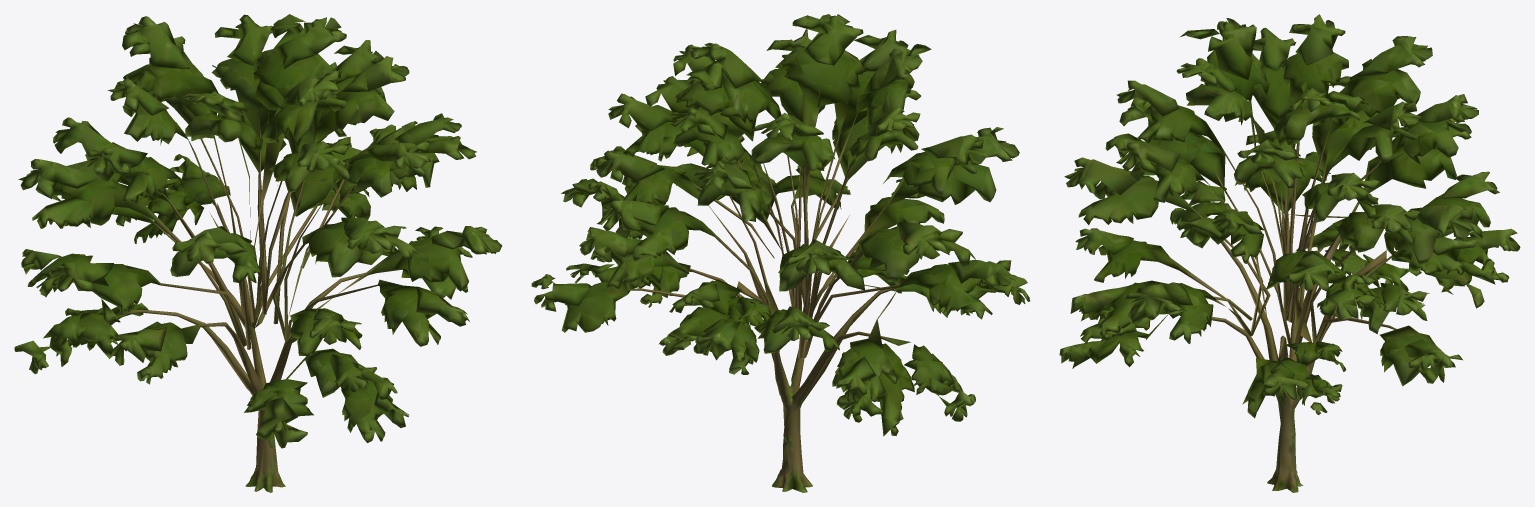
Rendered from YunQiShu.glb.
The picture shows the model from 3 angles, left to right: view 1: azimuth 30°, elevation 25°; view 2: azimuth 150°, elevation 25°; view 3: azimuth 270°, elevation 25°; orthographic projection. The views are drawn at different scales.
Parts seen in each view (by area): view 1: tripo_node_ec7a7114-9a04-495e-8173-a6d709488ffb; view 2: tripo_node_ec7a7114-9a04-495e-8173-a6d709488ffb; view 3: tripo_node_ec7a7114-9a04-495e-8173-a6d709488ffb.
Boxes of the visible parts, x1=… form: tripo_node_ec7a7114-9a04-495e-8173-a6d709488ffb: x1=14, y1=14, x2=502, y2=492; tripo_node_ec7a7114-9a04-495e-8173-a6d709488ffb: x1=531, y1=14, x2=1030, y2=492; tripo_node_ec7a7114-9a04-495e-8173-a6d709488ffb: x1=1059, y1=14, x2=1520, y2=492.
Bounding box in the file's own units: 0.998 × 0.998 × 0.9765.
Materials: 1 (1 with a texture image).
